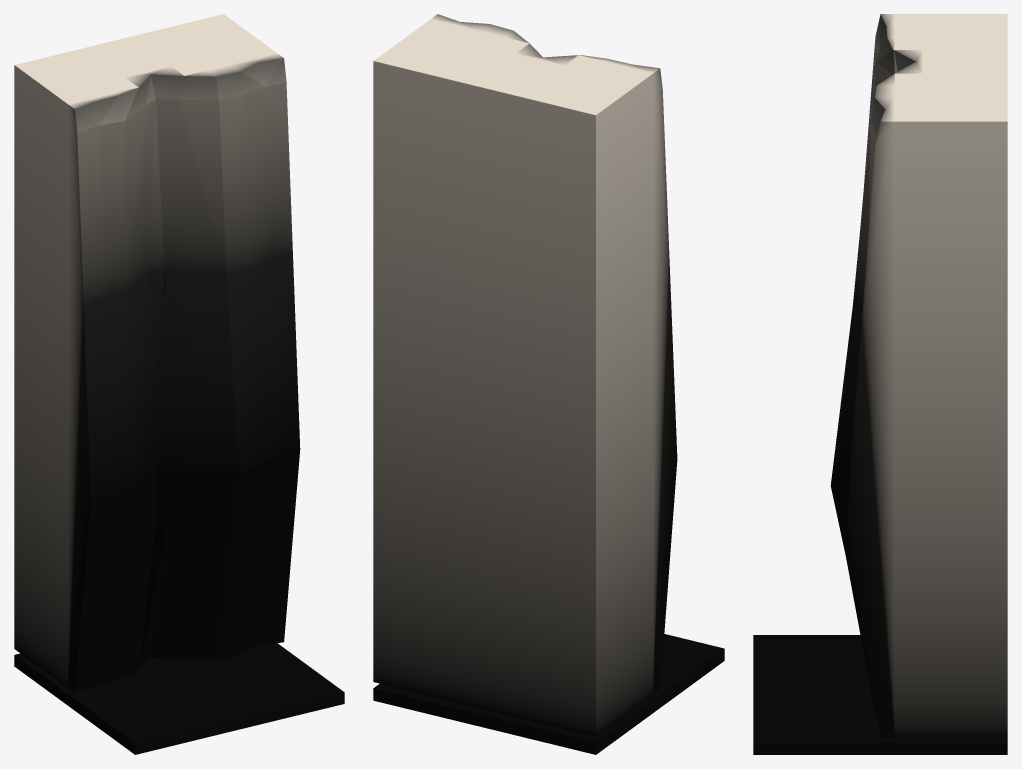
The model's file is SM_VKI_Ground_Cave_XXOO_Q01.fbx.
3 views of the same model, side by side, from view 1: azimuth 30°, elevation 25°; view 2: azimuth 150°, elevation 25°; view 3: azimuth 270°, elevation 25° (orthographic). The views are drawn at different scales.
Parts seen in each view (by area): view 1: SM_VKI_Ground_Cave_XXOO_Q01.001; view 2: SM_VKI_Ground_Cave_XXOO_Q01.001; view 3: SM_VKI_Ground_Cave_XXOO_Q01.001.
Boxes of the visible parts, left/top/right/bottom form: SM_VKI_Ground_Cave_XXOO_Q01.001: left=14, top=14, right=344, bottom=754; SM_VKI_Ground_Cave_XXOO_Q01.001: left=373, top=14, right=724, bottom=754; SM_VKI_Ground_Cave_XXOO_Q01.001: left=753, top=14, right=1007, bottom=754.
Bounding box in the file's own units: 1.5 × 4.12 × 1.5.
